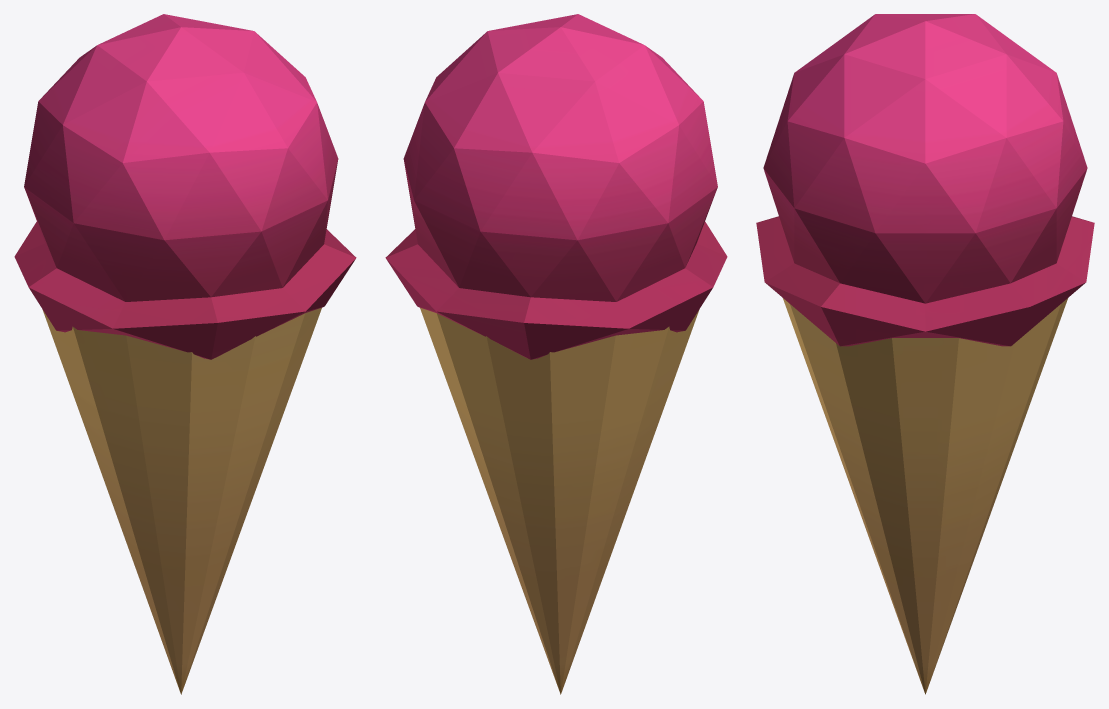
File: quaternius-junk-food-icecream.glb
3 views of the same model, side by side, from view 1: azimuth 30°, elevation 25°; view 2: azimuth 150°, elevation 25°; view 3: azimuth 270°, elevation 25° (orthographic).
Parts seen in each view (by area): view 1: Icecream; view 2: Icecream; view 3: Icecream.
Part boxes in pixels (x1,y1,x2,y2): Icecream: [14, 14, 356, 694]; Icecream: [385, 14, 727, 694]; Icecream: [756, 14, 1094, 694].
Size of the model in its own units: 0.854 by 1.83 by 0.8328.
1 material, 1 textured.
